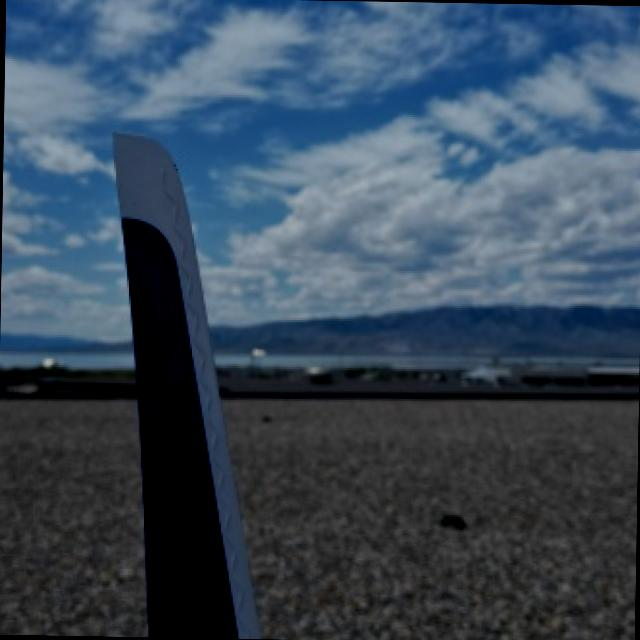healthy: (112, 131, 255, 637)
